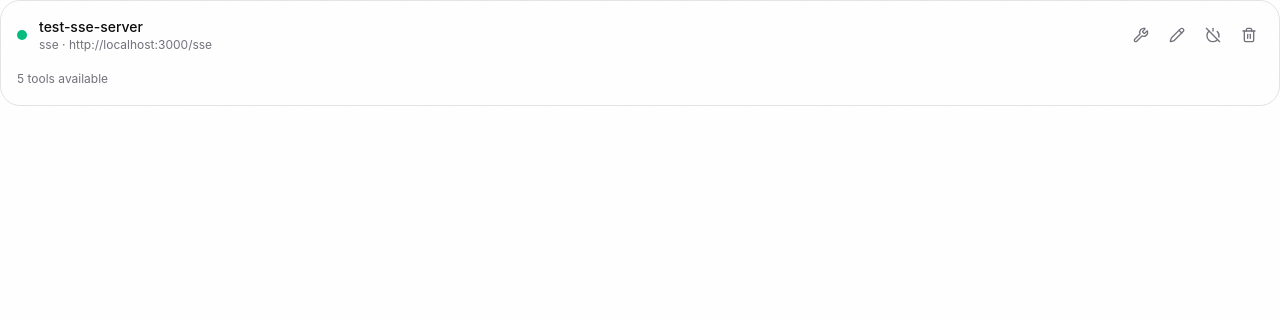
it: McpServerRow › edit form shows URL field for SSE transport
Click the button titled "Edit": (1177, 35) [1163,21,1191,49]
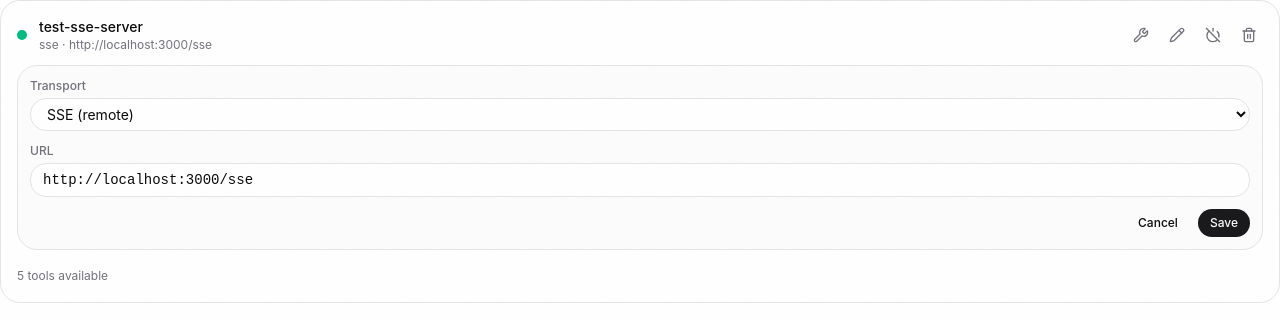
Check: the field showing "http://localhost:3000/sse" is shown, box [30,163,1250,197]
Check: the text "URL" is shown, box [30,143,54,158]
